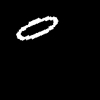chain: (16, 16, 57, 39)
